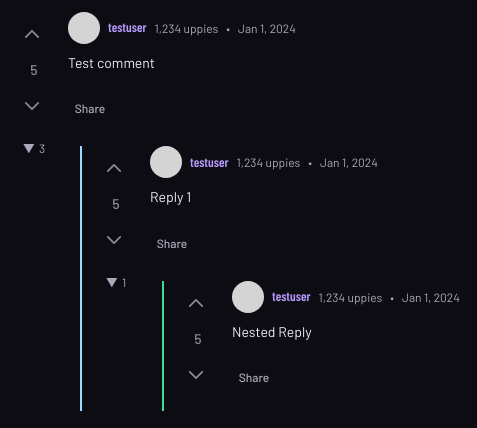
Scenario: CommentItem - Collapse/Expand Badge › Toggle behavior › should hide nested replies when collapsed
The width and height of the screenshot is (477, 428).
expect the text "Reply 1" is shown: met, box [150,188,191,205]
expect the text "Nested Reply" is shown: met, box [232,323,312,340]
// Collapse the parent comment
What coordinates should you click on to do the following:
click the button titled "Collapse thread"
I would click on:
 (34, 148)
Its box is [15,136,53,160].
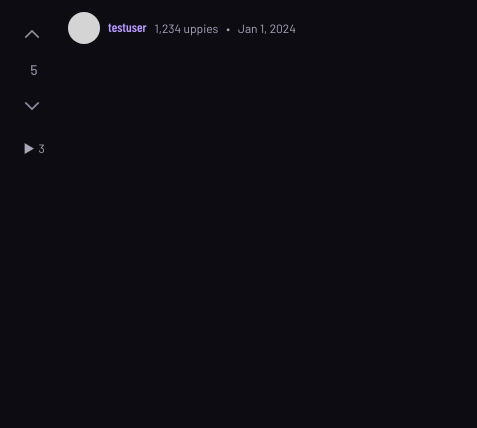
expect the text "Reply 1" is gone: met
expect the text "Nested Reply" is gone: met
